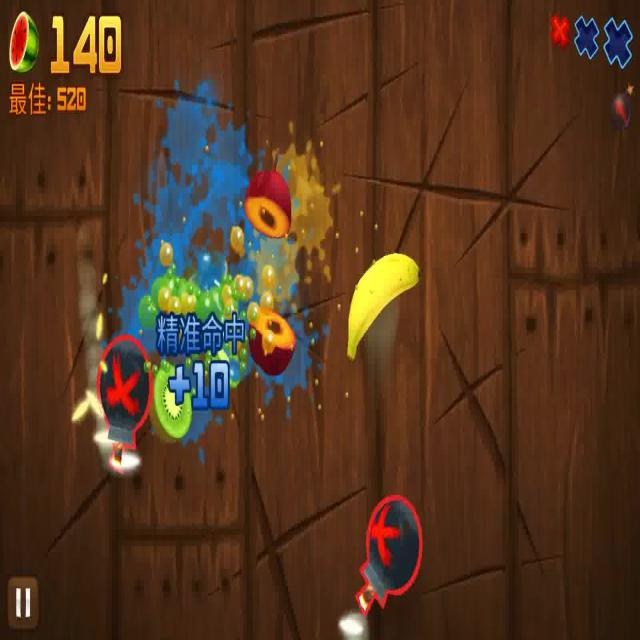bomb: (347, 484, 422, 624), (90, 325, 151, 471)
fruit: (347, 242, 424, 365), (239, 298, 301, 378), (240, 163, 292, 248), (154, 360, 191, 444)
